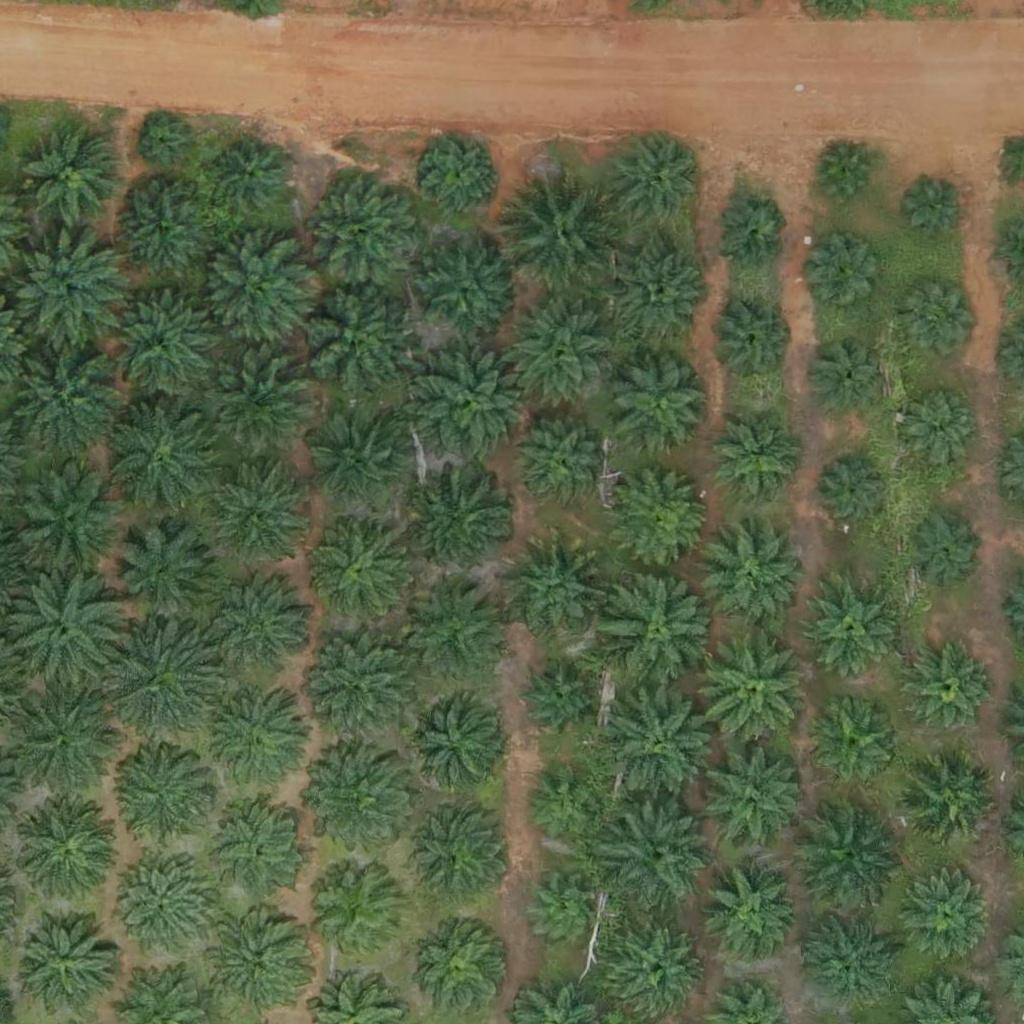Kelapa_Sawit: (7, 563, 132, 689), (102, 394, 227, 520), (97, 619, 222, 745), (302, 167, 427, 293), (290, 278, 415, 404), (295, 625, 420, 751), (410, 342, 535, 468), (501, 168, 626, 294), (497, 291, 622, 417), (599, 567, 724, 693), (599, 680, 724, 806), (691, 627, 816, 753), (3, 677, 128, 803), (98, 286, 223, 411), (11, 232, 124, 345), (12, 464, 125, 577), (107, 520, 220, 633), (206, 574, 319, 687), (601, 797, 714, 910), (298, 749, 411, 862), (194, 682, 307, 795), (792, 800, 904, 914), (200, 235, 312, 348), (201, 347, 313, 460), (22, 126, 122, 227), (111, 180, 211, 281), (310, 414, 410, 515), (311, 515, 411, 616), (418, 470, 518, 571), (406, 575, 506, 676), (509, 538, 609, 639), (700, 860, 800, 961), (606, 918, 706, 1019), (402, 692, 502, 793), (404, 804, 504, 905), (412, 916, 512, 1017), (307, 861, 407, 962), (209, 802, 309, 903), (207, 913, 307, 1014), (110, 746, 210, 847), (416, 239, 516, 339), (606, 131, 706, 231), (610, 247, 710, 347), (610, 354, 710, 454), (612, 471, 712, 571), (703, 527, 803, 627), (797, 578, 897, 678), (900, 754, 1000, 854), (894, 869, 994, 969), (705, 746, 805, 846), (112, 855, 212, 955), (15, 804, 115, 904), (15, 914, 115, 1014), (213, 470, 301, 558), (712, 417, 800, 505), (810, 702, 898, 790), (804, 919, 892, 1007), (707, 296, 794, 384), (518, 421, 605, 509), (906, 646, 993, 734), (901, 387, 976, 463), (811, 335, 886, 411), (816, 454, 891, 530), (905, 510, 980, 586), (423, 136, 498, 212), (711, 196, 786, 272), (809, 238, 884, 313), (902, 280, 977, 355), (528, 871, 603, 946), (527, 767, 602, 842), (214, 139, 289, 214), (520, 664, 595, 739), (814, 144, 876, 207), (904, 177, 966, 240), (139, 118, 189, 168)
